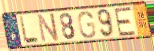8: (59, 12, 76, 41)
9: (96, 8, 115, 39)
E: (113, 6, 137, 38)
G: (77, 10, 97, 39)
L: (18, 15, 40, 45)
N: (36, 12, 61, 45)
